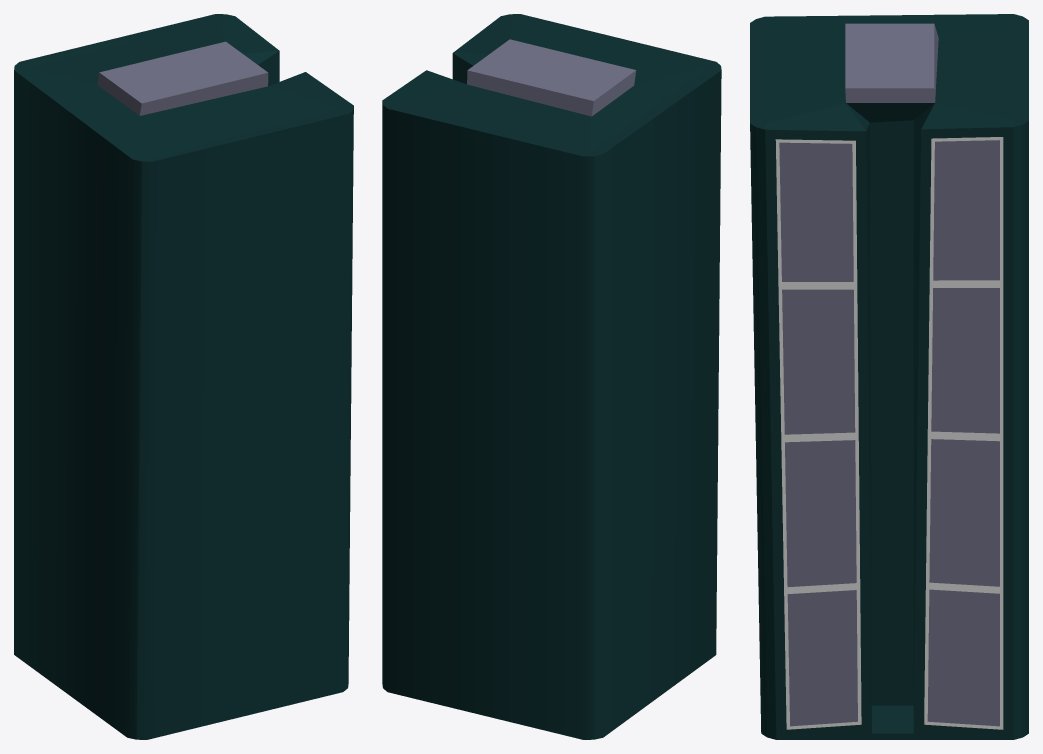
The model's file is predio3.FBX.
3 views of the same model, side by side, from view 1: azimuth 30°, elevation 25°; view 2: azimuth 150°, elevation 25°; view 3: azimuth 270°, elevation 25° (orthographic). The views are drawn at different scales.
Parts seen in each view (by area): view 1: Box001; view 2: Box001; view 3: Box001.
Part boxes in pixels (x1,y1,x2,y2): Box001: (14,14,353,739); Box001: (382,14,721,739); Box001: (750,14,1028,739).
Bounding box in the file's own units: 20 × 51.7 × 20.83.
